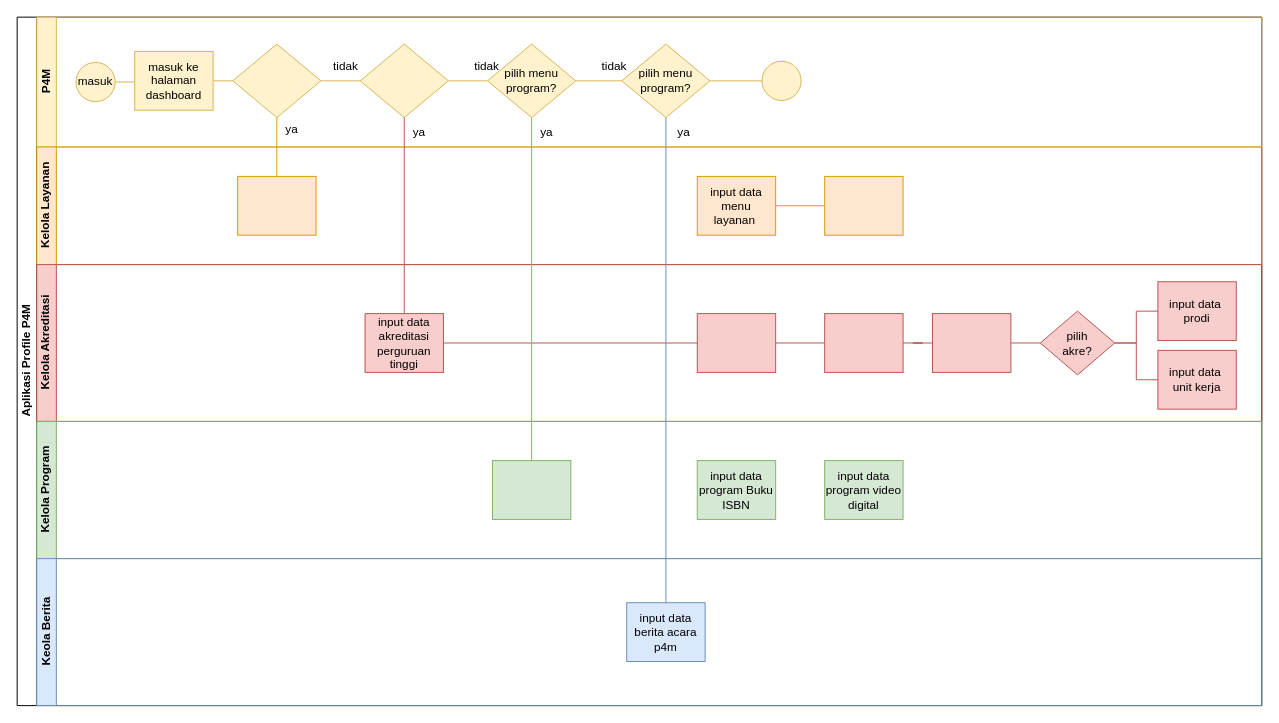
Some shapes in this 1279 by 723 pixel diagram are drawn without their labels. Each missing label, with the centre of its shape:
"input data akreditasi unit dan prodi" goes at point 971,342.
"input data hasil kepuasan" goes at point 276,205.
"input data isi layanan" goes at point 863,205.
"input data jenis akreditasi" goes at point 863,342.
"input data lembaga" goes at point 736,342.
"input data panduan program" goes at point 531,489.
"keluar" goes at point 781,80.
"pilih menu akreditasi?" goes at point 403,80.
"pilih menu layanan?" goes at point 276,80.
